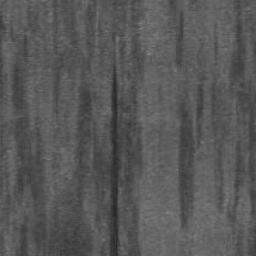Scratches: (109, 65, 120, 256)
